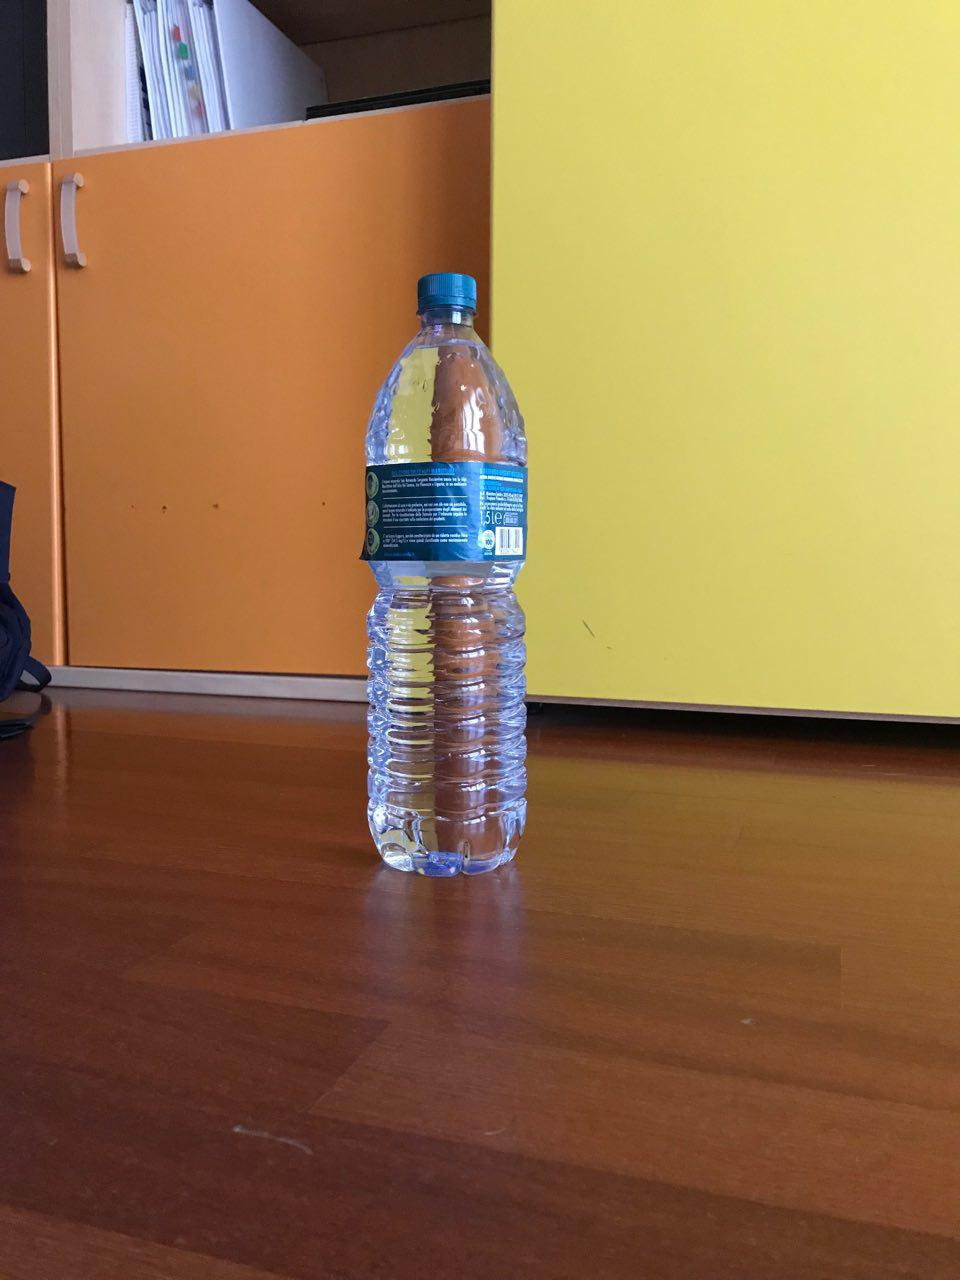san_bernardo: (361, 270, 532, 881)
